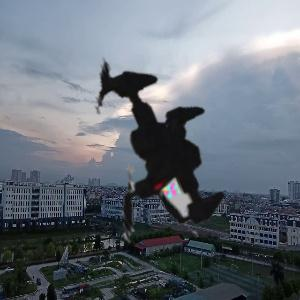drone: (7, 15, 285, 293)
